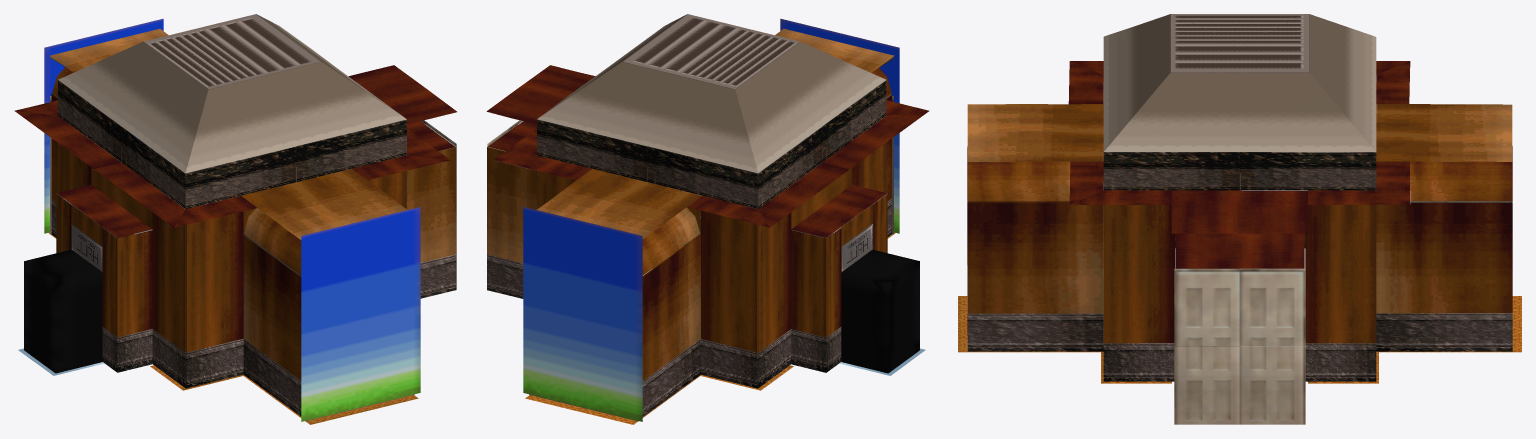
File: FRO.obj
The picture shows the model from 3 angles, left to right: view 1: azimuth 30°, elevation 25°; view 2: azimuth 150°, elevation 25°; view 3: azimuth 270°, elevation 25°; orthographic projection. The views are drawn at different scales.
Visible parts, largest first — view 1: Map_FRO; view 2: Map_FRO; view 3: Map_FRO.
Part boxes in pixels (x1,y1,x2,y2): Map_FRO: (14,14,456,424); Map_FRO: (486,14,929,424); Map_FRO: (958,14,1521,424).
Size of the model in its own units: 28.27 by 18.25 by 33.14.
